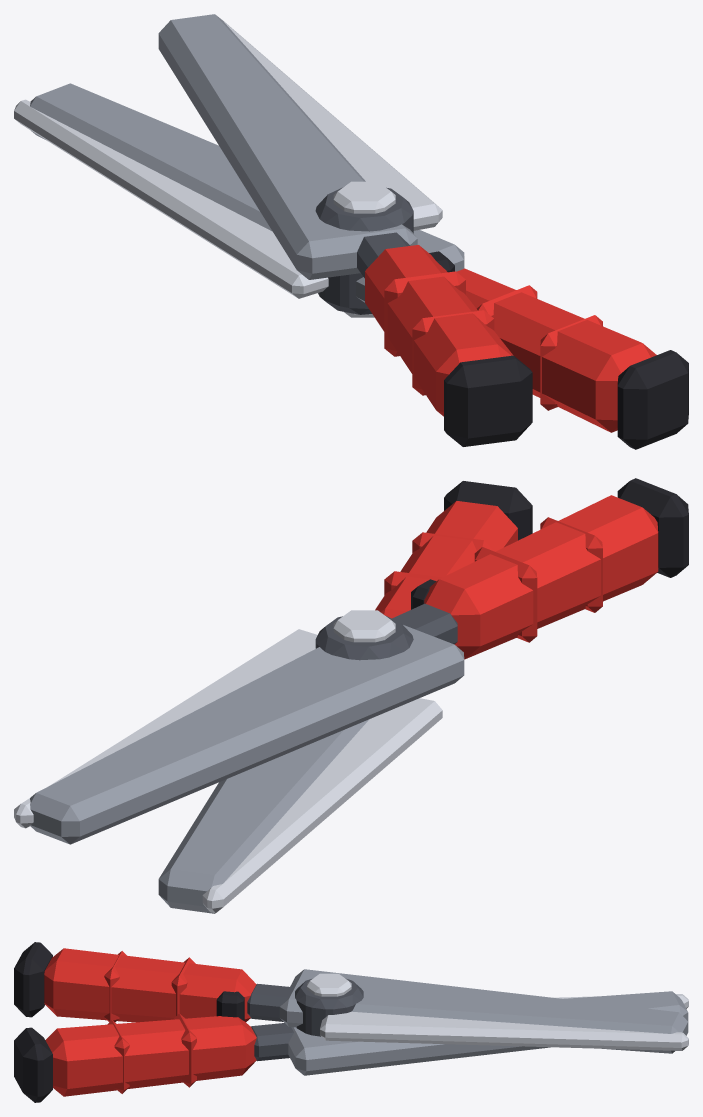
Rendered from tool_scissors.glb.
The picture shows the model from 3 angles, top to bottom: view 1: azimuth 30°, elevation 25°; view 2: azimuth 150°, elevation 25°; view 3: azimuth 270°, elevation 25°; orthographic projection. The views are drawn at different scales.
Visible parts, largest first — view 1: Metal__969CA8, SmoothPlastic__E2342E, Metal__D4D8E2, SmoothPlastic__26262C, Metal__525660; view 2: Metal__969CA8, SmoothPlastic__E2342E, Metal__D4D8E2, SmoothPlastic__26262C, Metal__525660; view 3: SmoothPlastic__E2342E, Metal__969CA8, Metal__D4D8E2, SmoothPlastic__26262C, Metal__525660.
Part boxes in pixels (bbox=[...]): Metal__969CA8: bbox=[30, 14, 464, 302]; SmoothPlastic__E2342E: bbox=[365, 245, 656, 432]; Metal__D4D8E2: bbox=[14, 15, 442, 317]; SmoothPlastic__26262C: bbox=[429, 251, 688, 449]; Metal__525660: bbox=[315, 187, 413, 314]; Metal__969CA8: bbox=[30, 625, 464, 913]; SmoothPlastic__E2342E: bbox=[375, 495, 658, 659]; Metal__D4D8E2: bbox=[14, 610, 442, 913]; SmoothPlastic__26262C: bbox=[411, 478, 688, 609]; Metal__525660: bbox=[315, 603, 457, 660]; SmoothPlastic__E2342E: bbox=[44, 948, 256, 1096]; Metal__969CA8: bbox=[279, 969, 688, 1075]; Metal__D4D8E2: bbox=[307, 973, 688, 1050]; SmoothPlastic__26262C: bbox=[14, 942, 244, 1102]; Metal__525660: bbox=[247, 978, 363, 1061].
Bounding box in the file's own units: 1.31 × 0.62 × 4.4.
